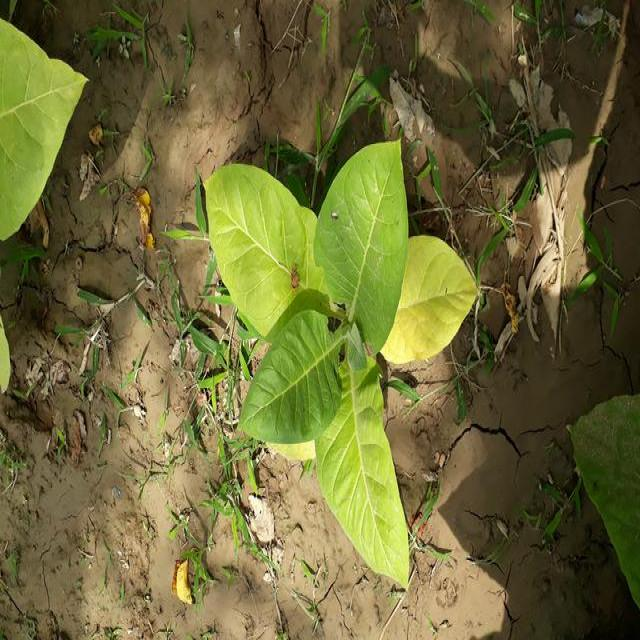crop: (195, 150, 460, 589), (2, 29, 96, 258), (576, 395, 640, 600)
